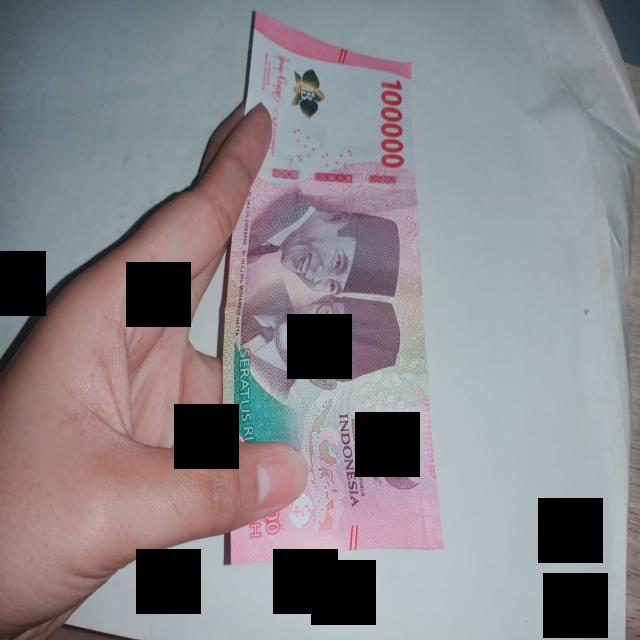seratusribu rupiah: (224, 12, 442, 563)
